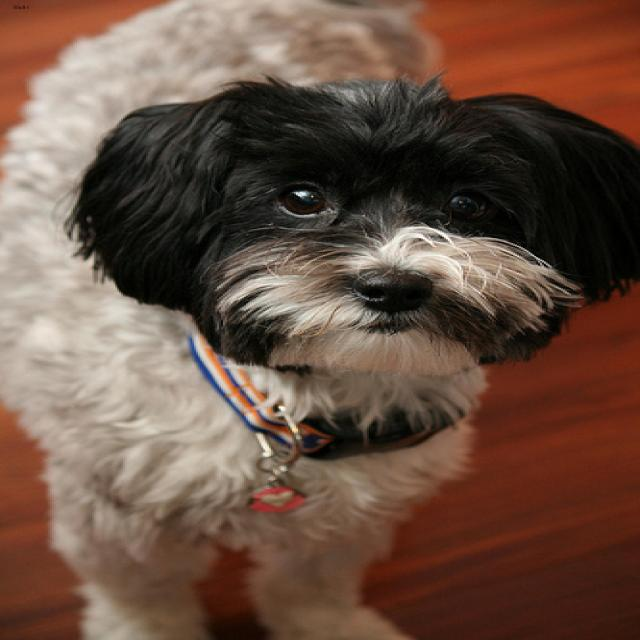dog-havanese: (2, 1, 636, 637)
